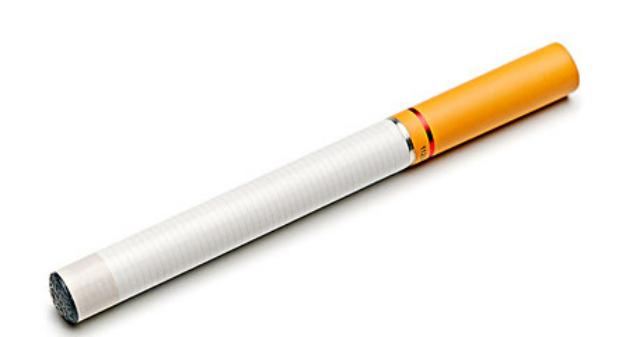Cigarette: (47, 41, 581, 327)
